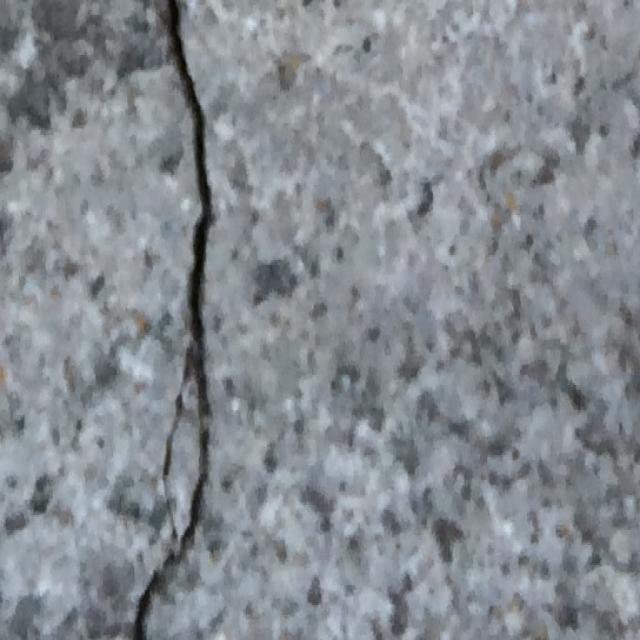Longitudinal: (131, 0, 213, 640)
